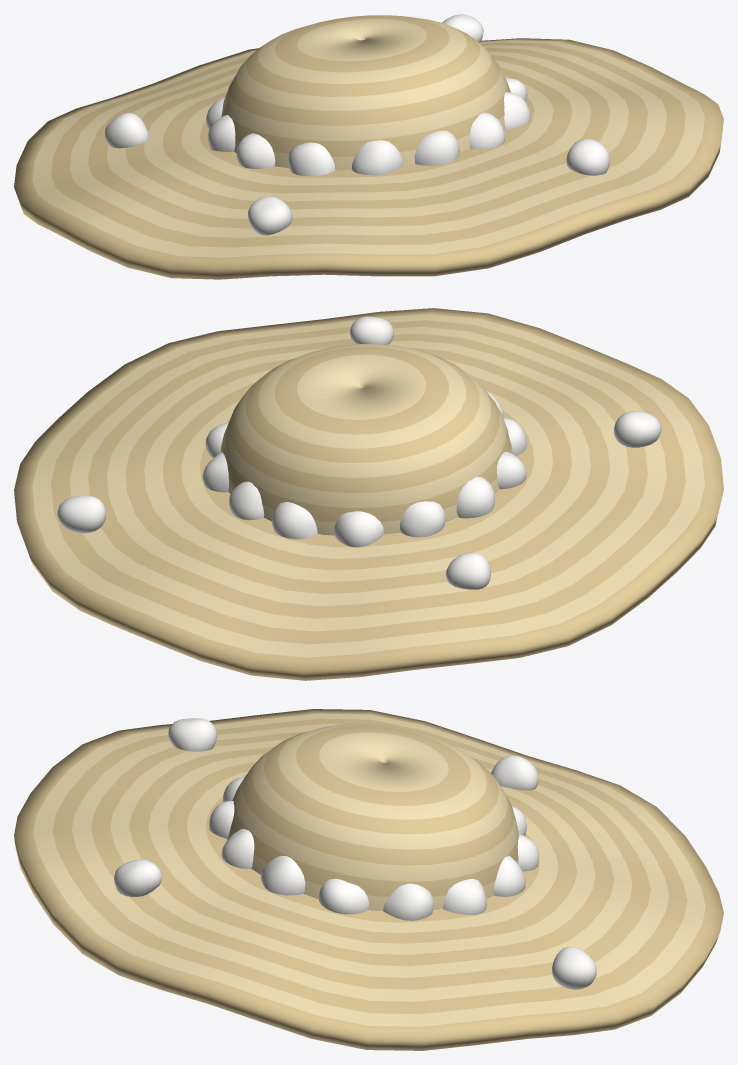
Rendered from StrawHat.fbx.
3 views of the same model, one above another, from view 1: azimuth 30°, elevation 25°; view 2: azimuth 150°, elevation 25°; view 3: azimuth 270°, elevation 25° (orthographic). The views are drawn at different scales.
Visible parts, largest first — view 1: StrawHat; view 2: StrawHat; view 3: StrawHat.
Boxes of the visible parts, x1=… form: StrawHat: x1=14, y1=14, x2=723, y2=279; StrawHat: x1=14, y1=308, x2=723, y2=680; StrawHat: x1=14, y1=709, x2=723, y2=1050.
Bounding box in the file's own units: 1.04 × 0.2671 × 0.9816.
